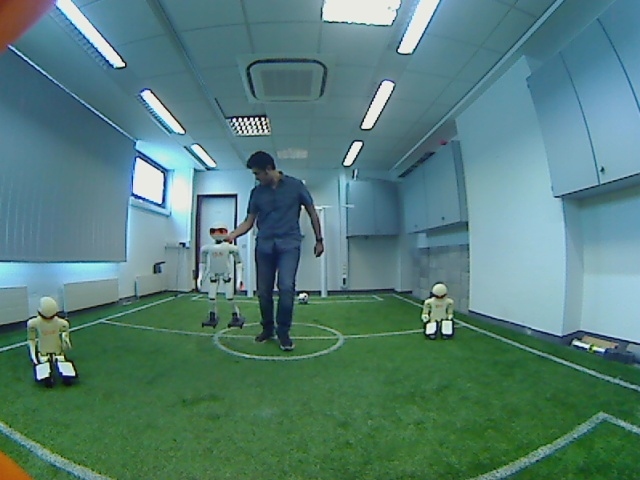ball: (293, 289, 315, 309)
robot: (19, 291, 88, 387), (194, 223, 247, 333), (413, 281, 461, 347)
